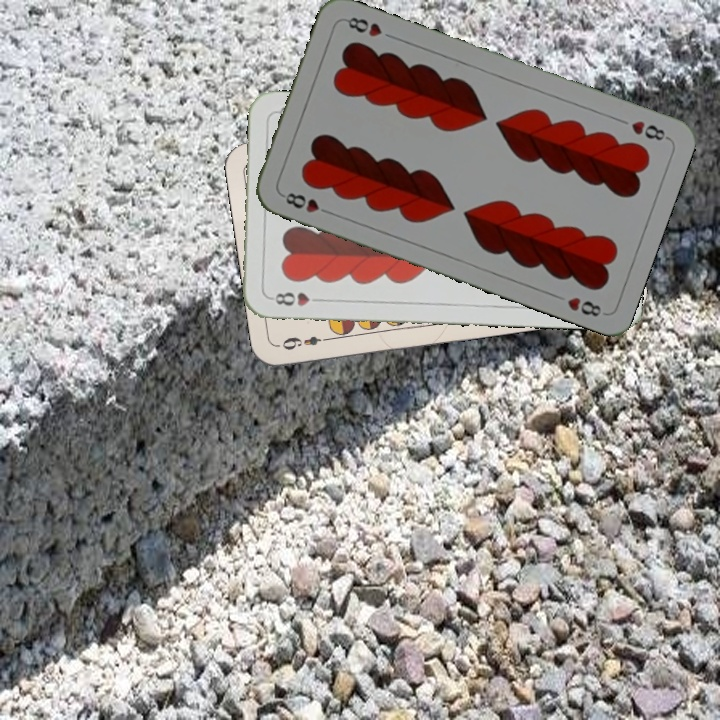E9: (276, 331, 335, 353)
H8: (277, 188, 335, 217), (267, 288, 326, 309), (627, 116, 671, 144)
